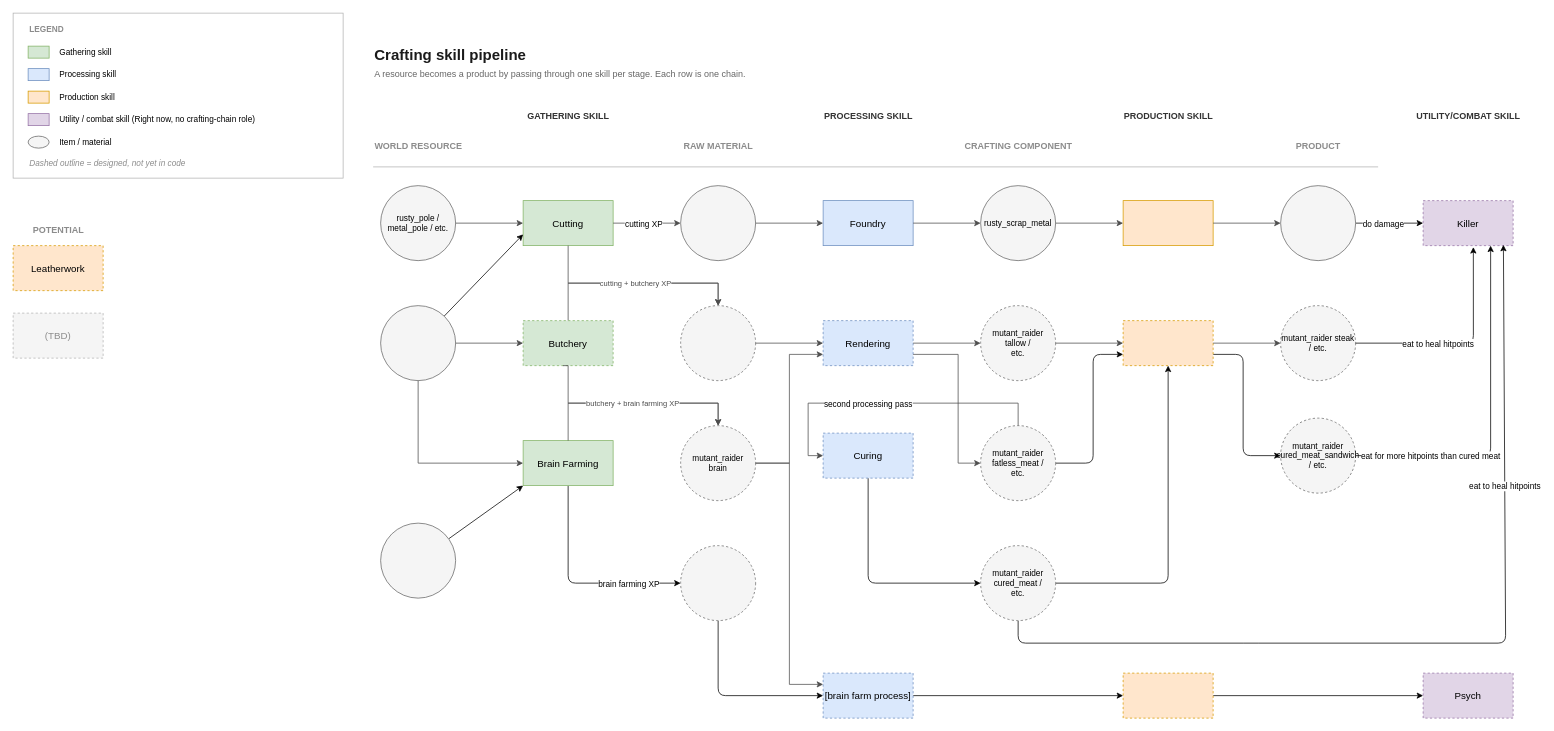
This 1554x731 diagram has some shape labels left out. The centre of each missing label's shape, as x and y in pixels:
"[brain farm production]" belongs at (x=1167, y=695).
"canopic_jars" belongs at (x=418, y=560).
"Gastronomy" belongs at (x=1167, y=343).
"Metalsmith" belongs at (x=1167, y=223).
"mutant_raider chuck / filet / etc." belongs at (x=718, y=343).
"mutant_raider conscious_energy" belongs at (x=718, y=583).
"mutant_raider corpse" belongs at (x=418, y=343).
"rusty_metal_chunk / metal_chunk / etc." belongs at (x=718, y=223).
"rusty_scrap_ shortsword / axe / etc." belongs at (x=1318, y=223).
